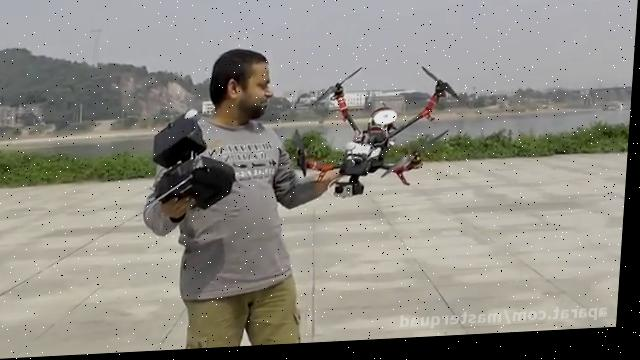drone: (290, 63, 466, 205)
